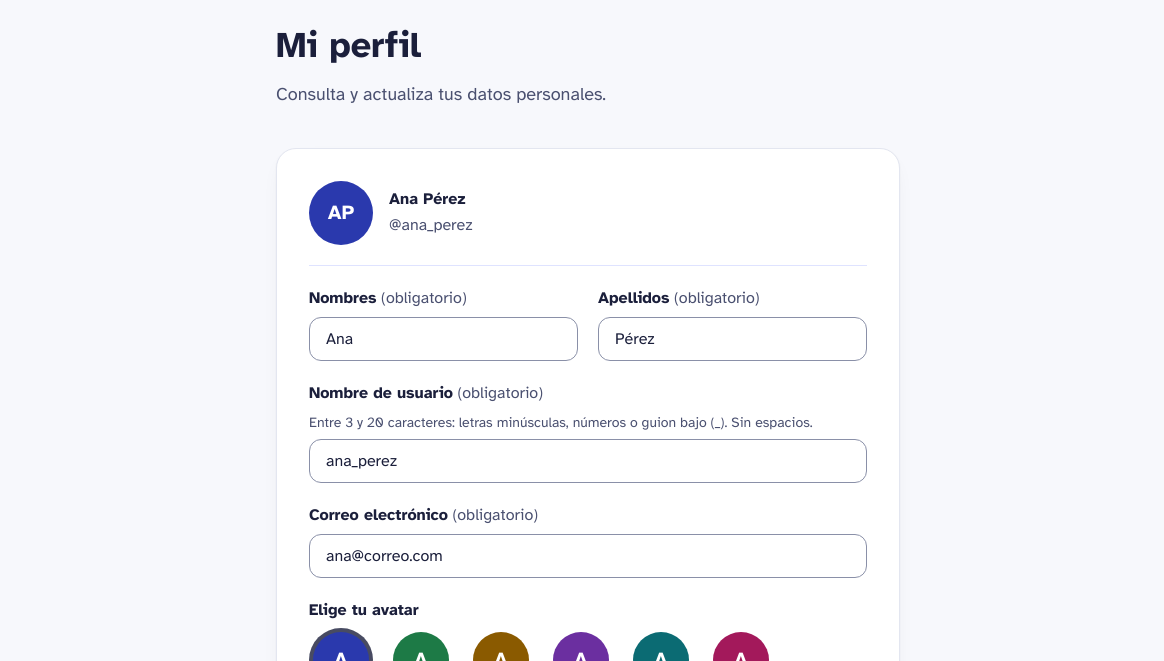
Test case: Mi perfil › la tarjeta de arriba muestra lo guardado y no el borrador inválido, hasta que se guarda bien
Check: the heading "Mi perfil" is shown, box [276, 23, 421, 67]
Replace the text in the field labelled "Nombre de usuario (obligatorio)" with "Malo!" at (588, 461), box [309, 439, 867, 483]
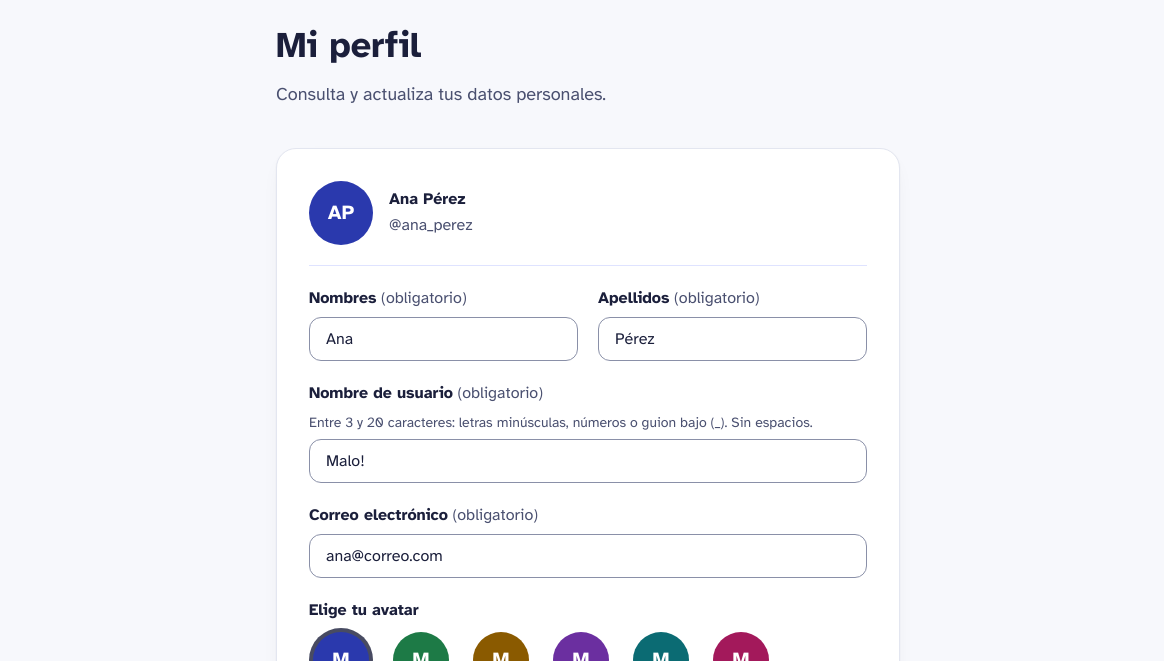
Clear the field labelled "Nombres (obligatorio)" at (444, 339), box [309, 317, 578, 361]
(page scrolled)
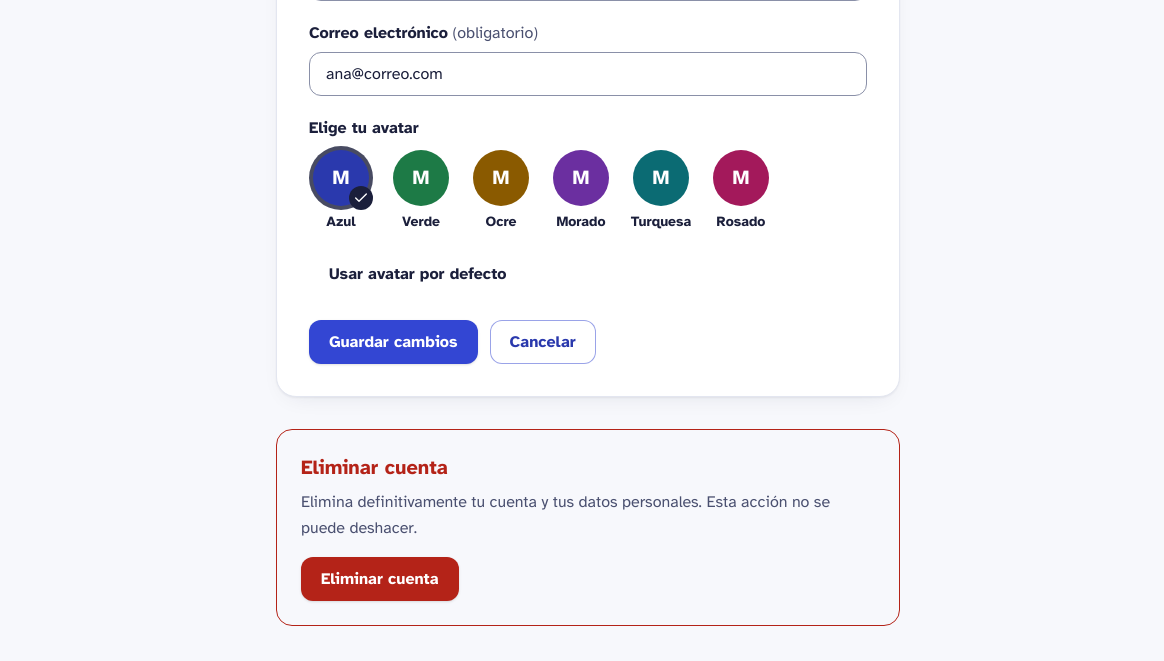
Click the button "Guardar cambios" at (393, 342), box [309, 320, 478, 364]
(page scrolled)
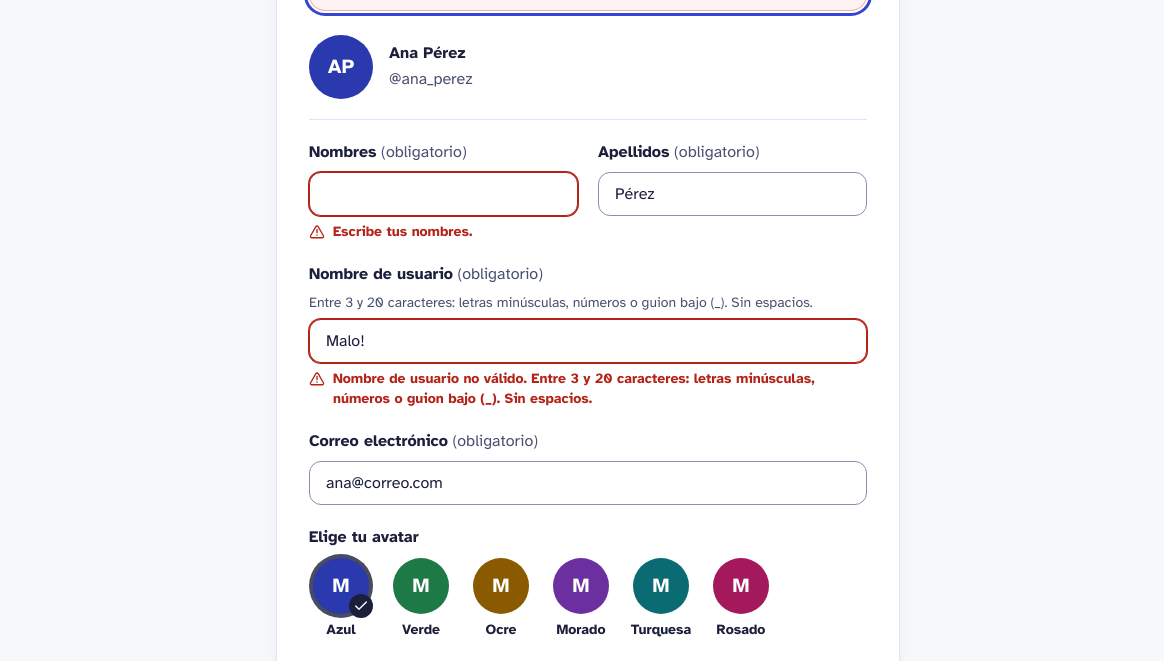
Replace the text in the field labelled "Nombre de usuario (obligatorio)" with "ana_nueva" at (588, 341), box [309, 319, 867, 363]
(page scrolled)
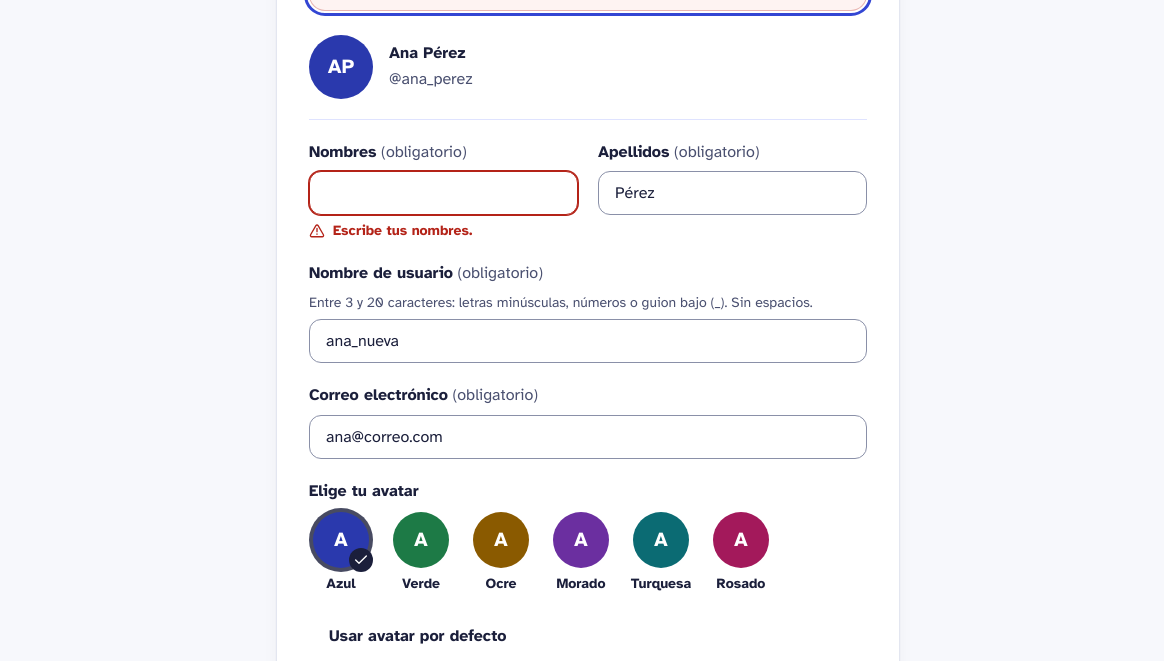
Type "Ana María" into the field labelled "Nombres (obligatorio)" at (444, 193), box [309, 171, 578, 215]
(page scrolled)
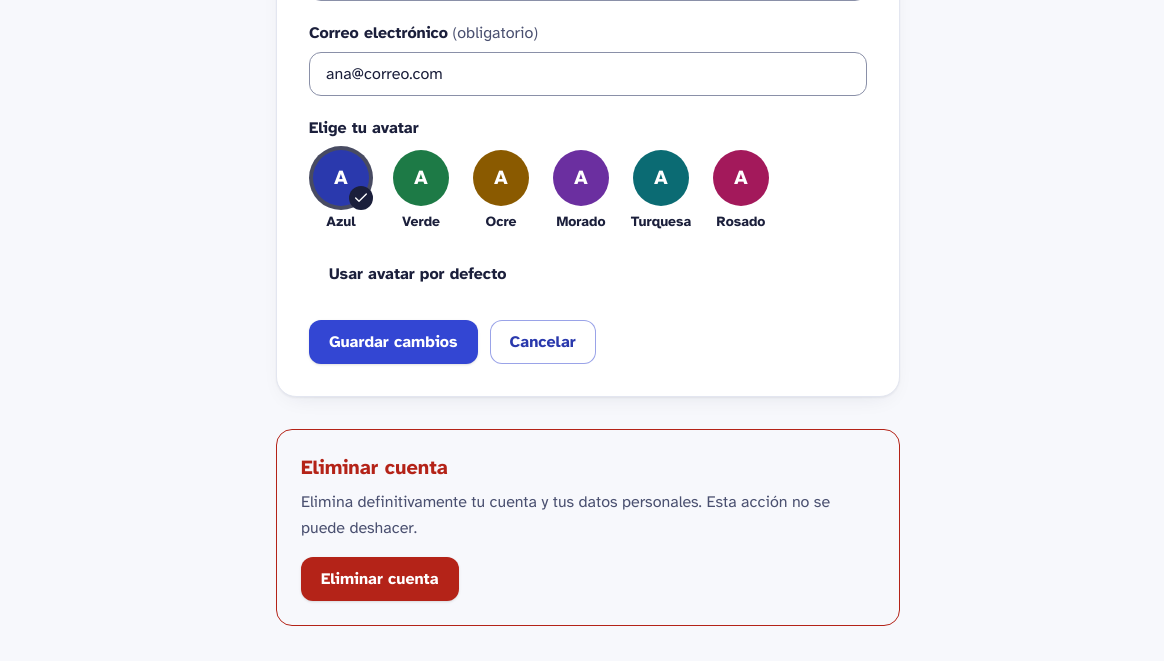
Click the button "Guardar cambios" at (393, 342), box [309, 320, 478, 364]
(page scrolled)
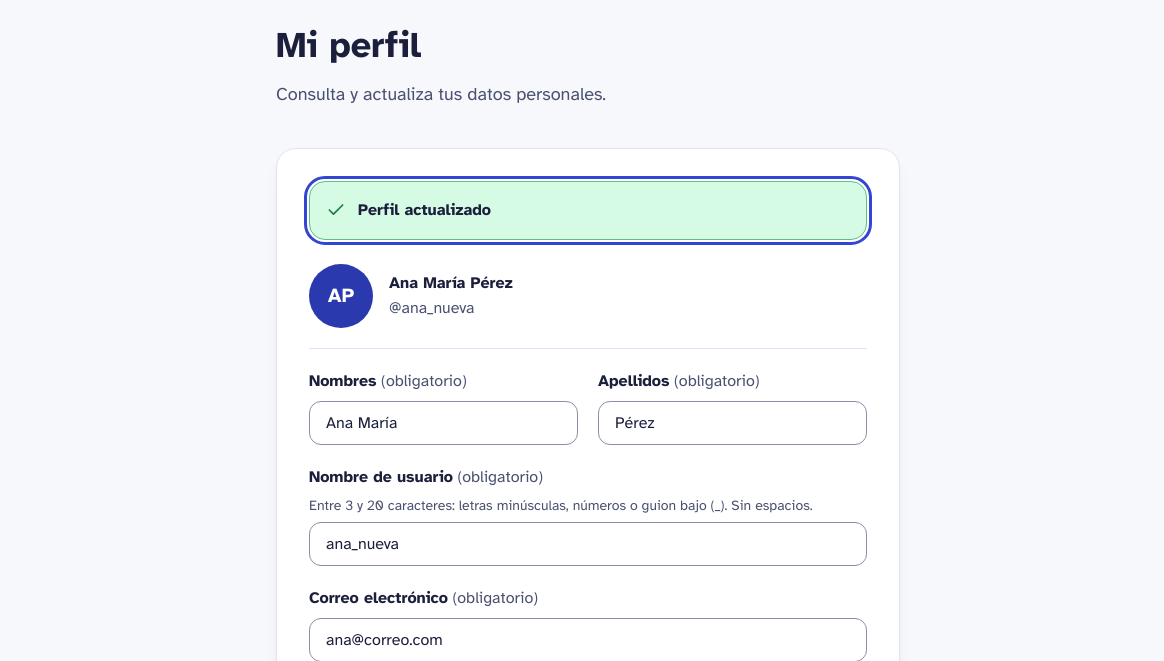
Check: the text "Perfil actualizado" is shown, box [358, 200, 491, 220]
